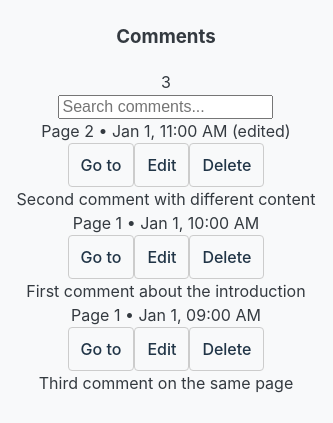
Test: CommentList › Edit Functionality › cancels edit mode when cancel button is clicked
The width and height of the screenshot is (333, 423).
# Enter edit mode
Click the button "Edit" below "Jan 1, 11:00 AM" at (162, 165), box x1=134 y1=143 x2=189 y2=187
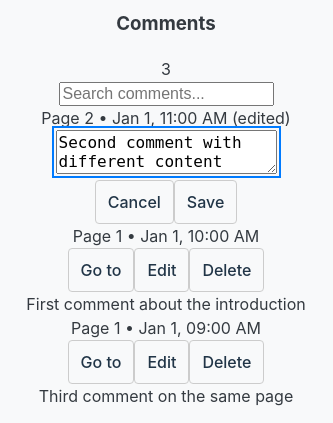
# Modify content
Replace the text in the text box showing "Second comment with different content" with "Modified content" at (166, 152), box x1=56 y1=130 x2=276 y2=174
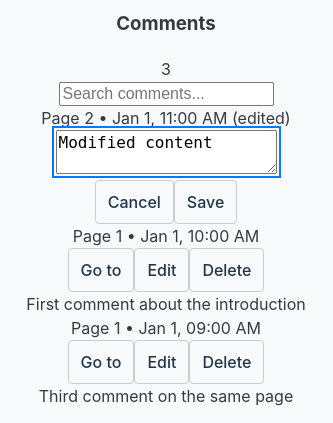
Click the button "Cancel" at (134, 202), box x1=95 y1=180 x2=174 y2=224
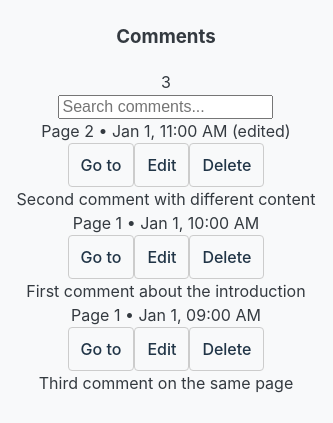
Expected: the field showing "Modified content" is not shown
Result: the text "Second comment with different content" is shown at x1=17 y1=187 x2=315 y2=211
